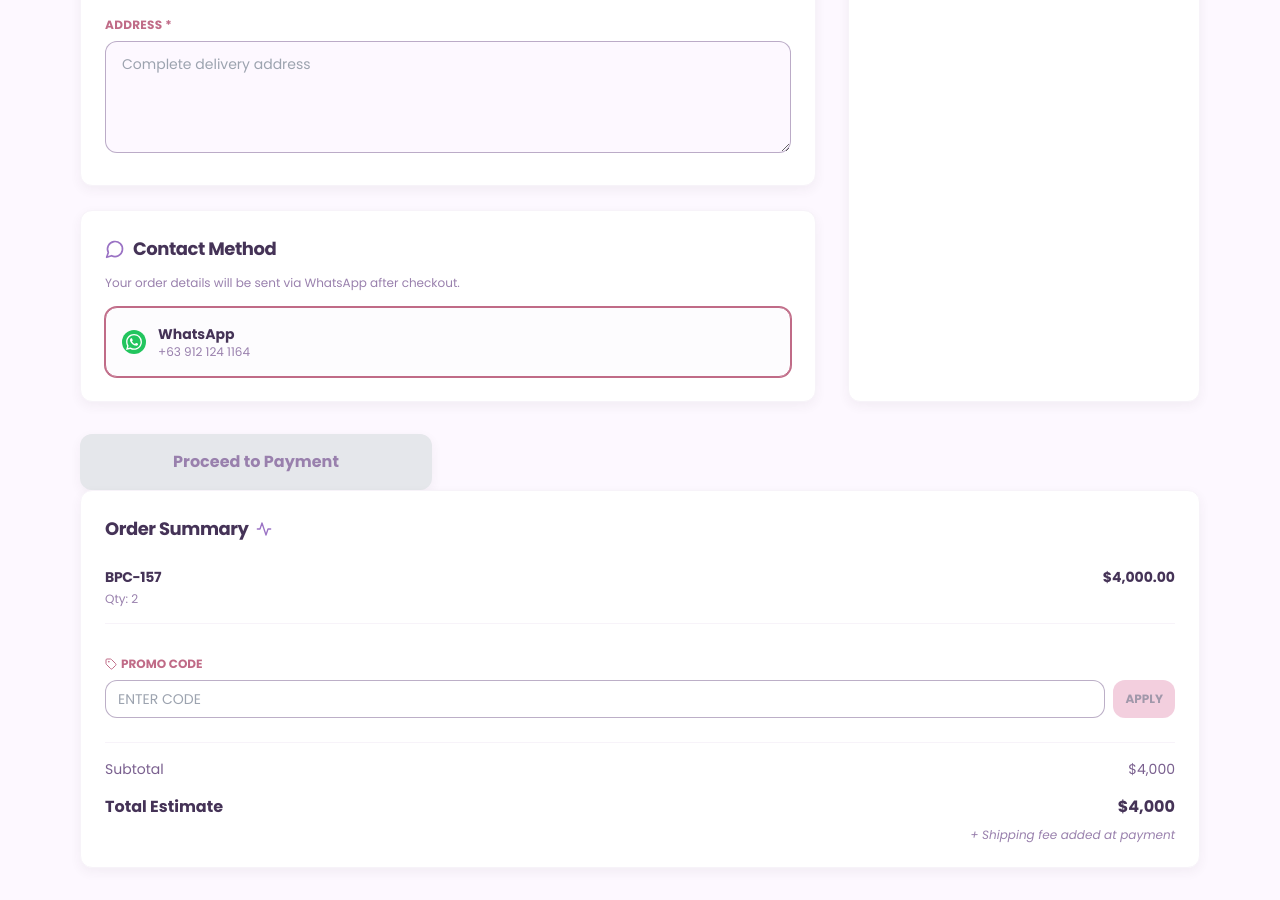
it: Checkout component › promo code › shows error when minimum purchase not met
(page scrolled)
In the field with placeholder "ENTER CODE": (605, 699) [105,680,1105,718], type "BIGSPEND"
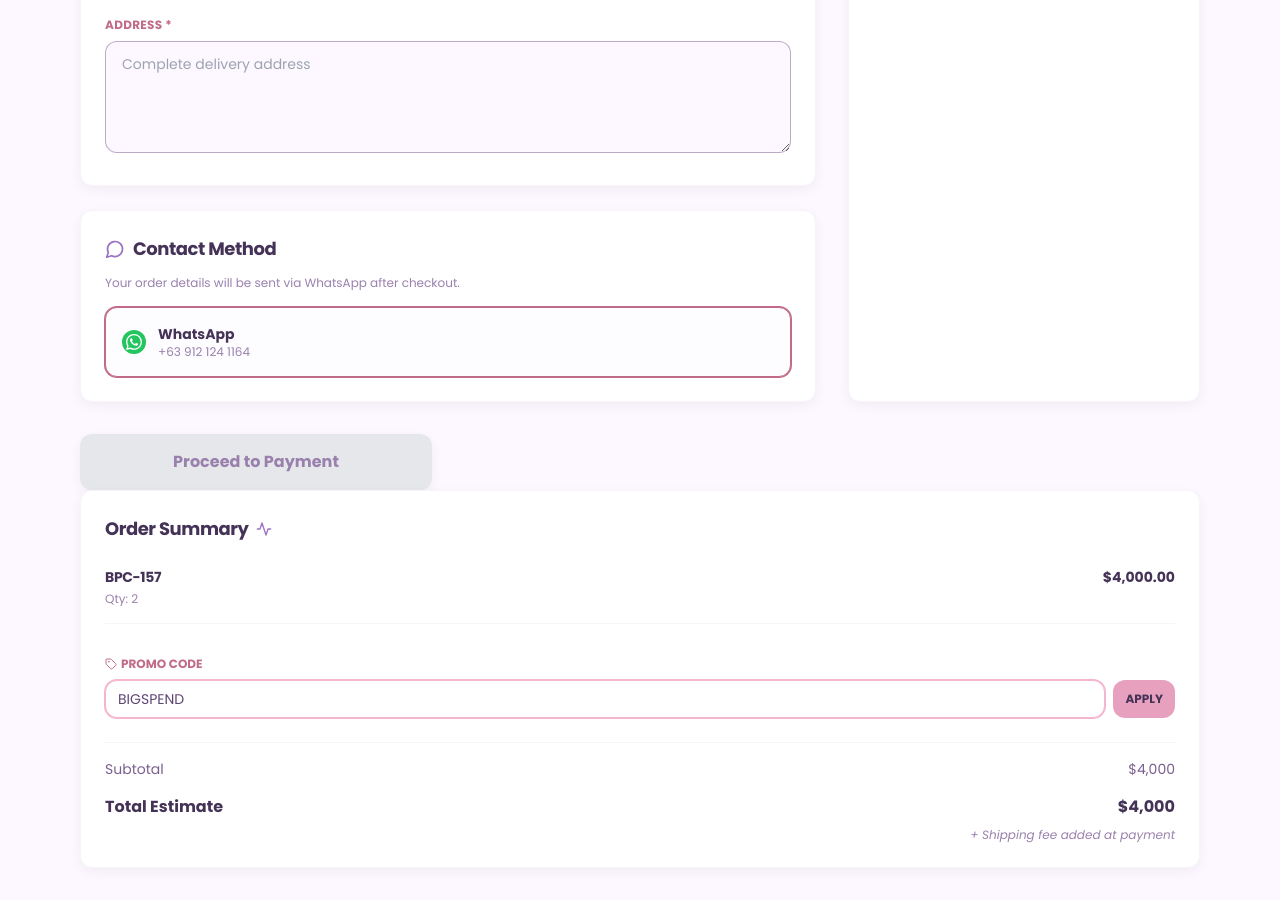
Click the button "APPLY": click(1144, 699) [1113,680,1175,718]
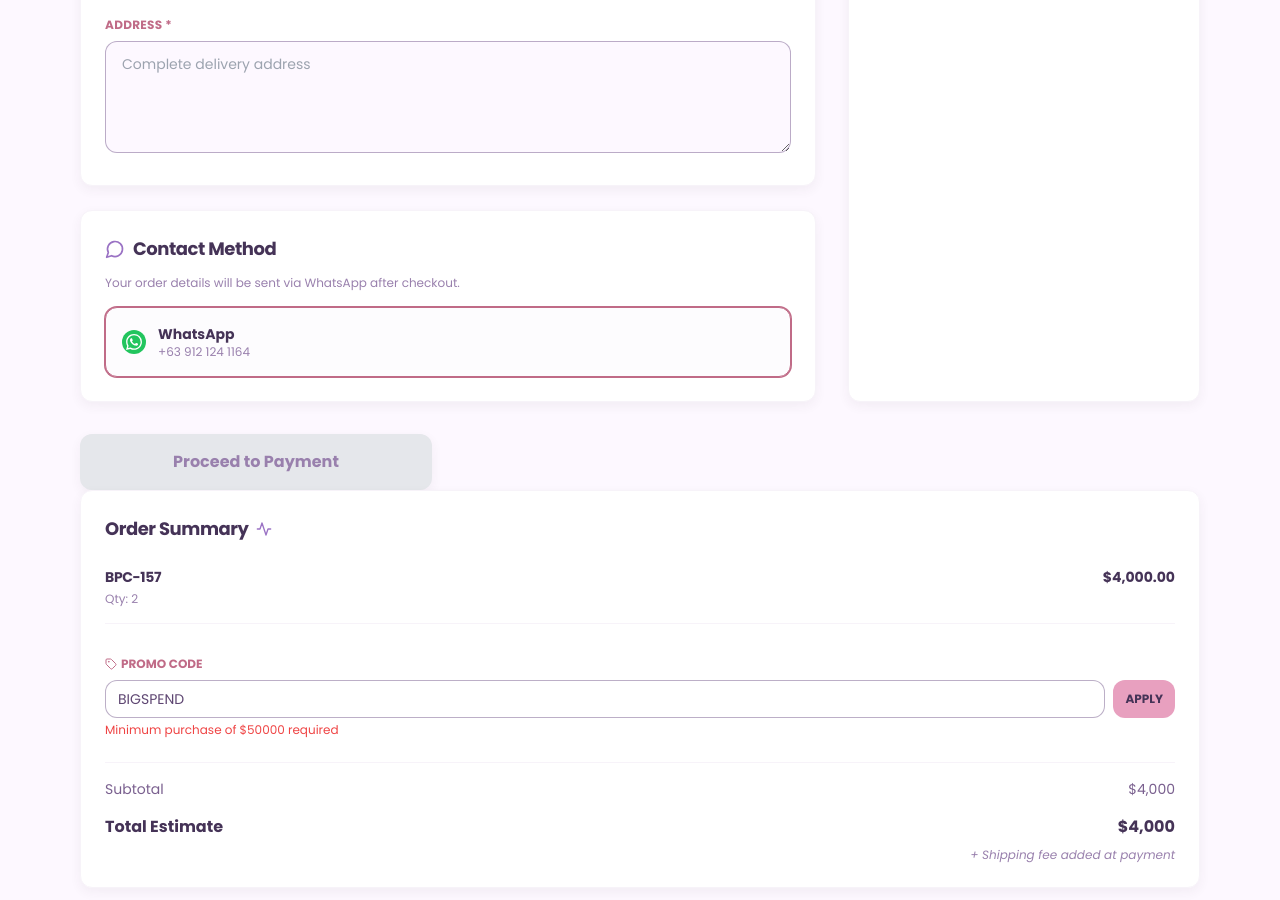
Expected: the text "Minimum purchase of $50000 required" is shown, [105,721,339,738]
